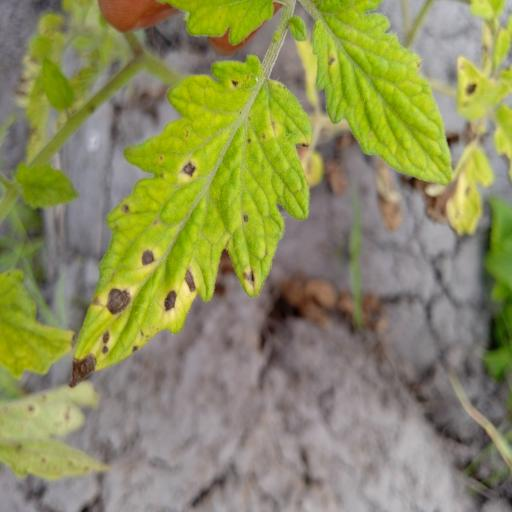Tomato_Brown_Spots: (67, 51, 318, 389), (310, 0, 461, 189)
